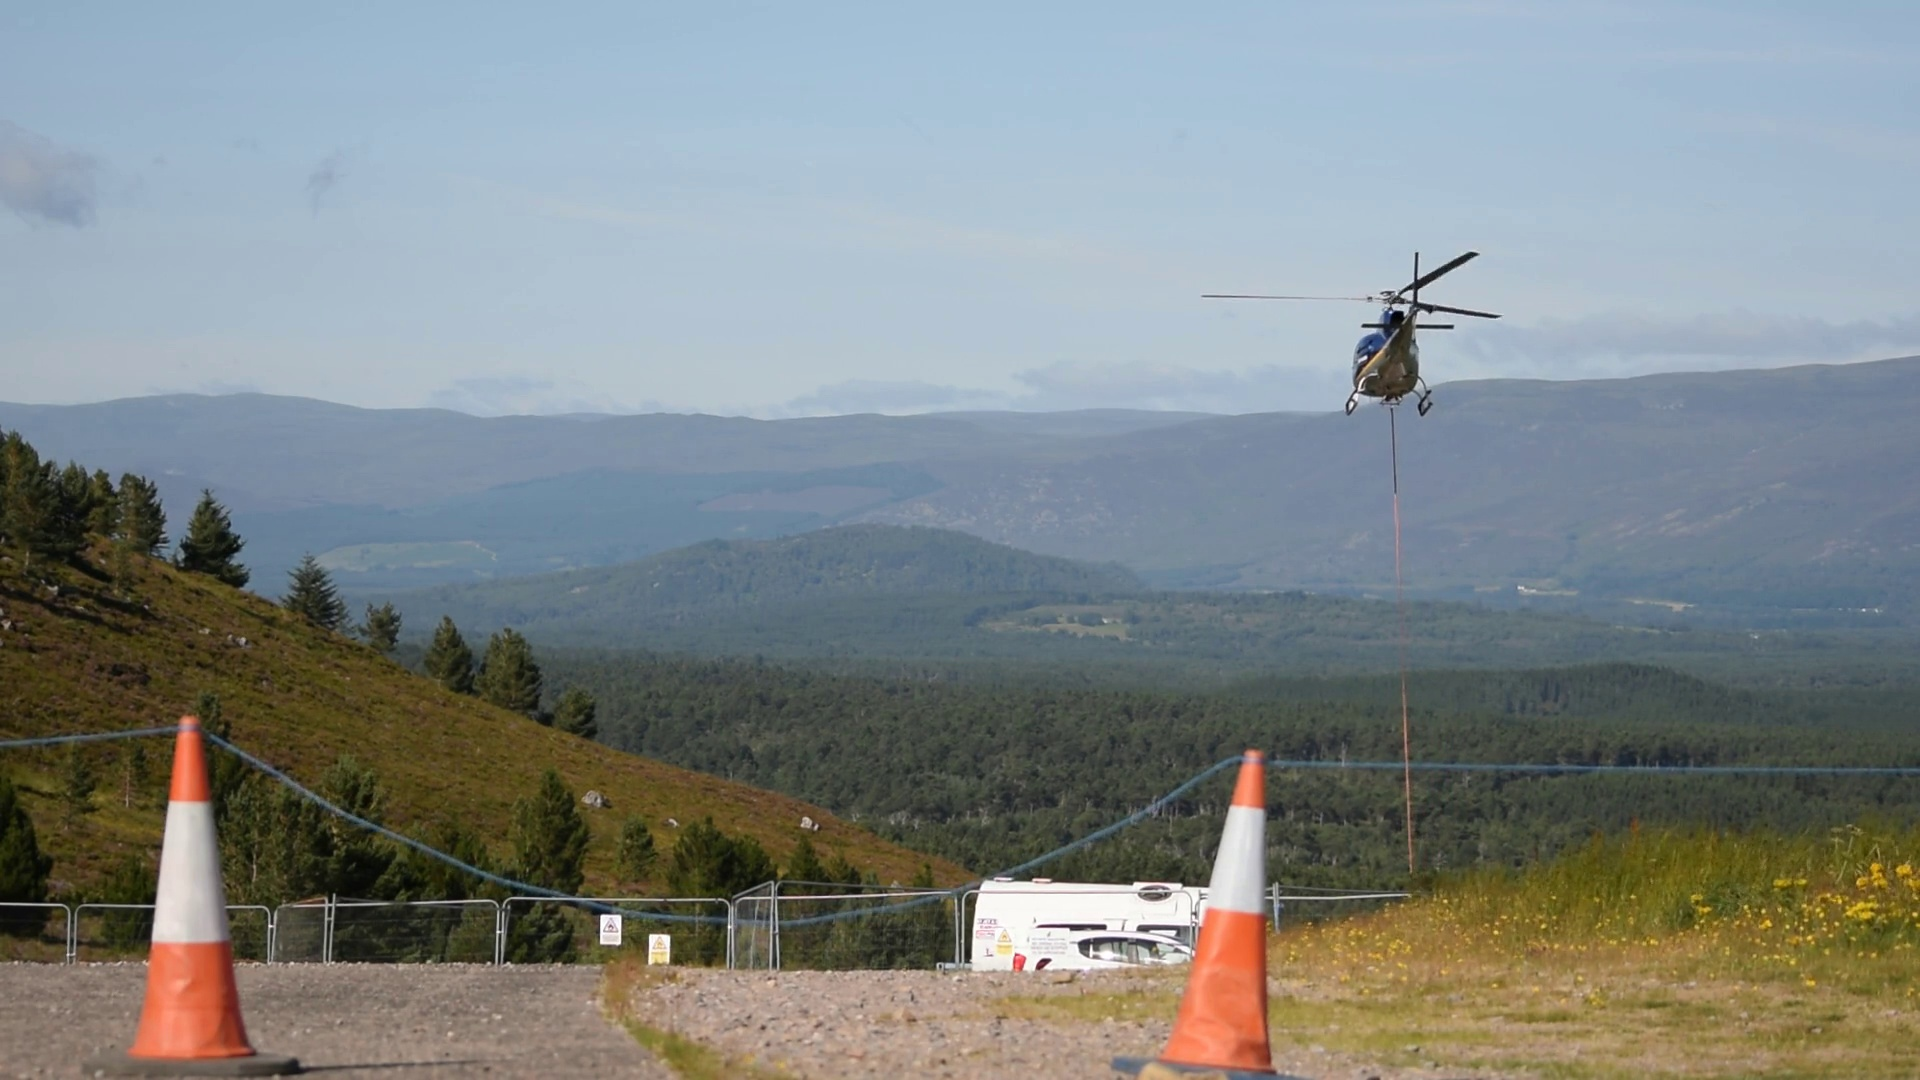heli: (1204, 248, 1502, 423)
